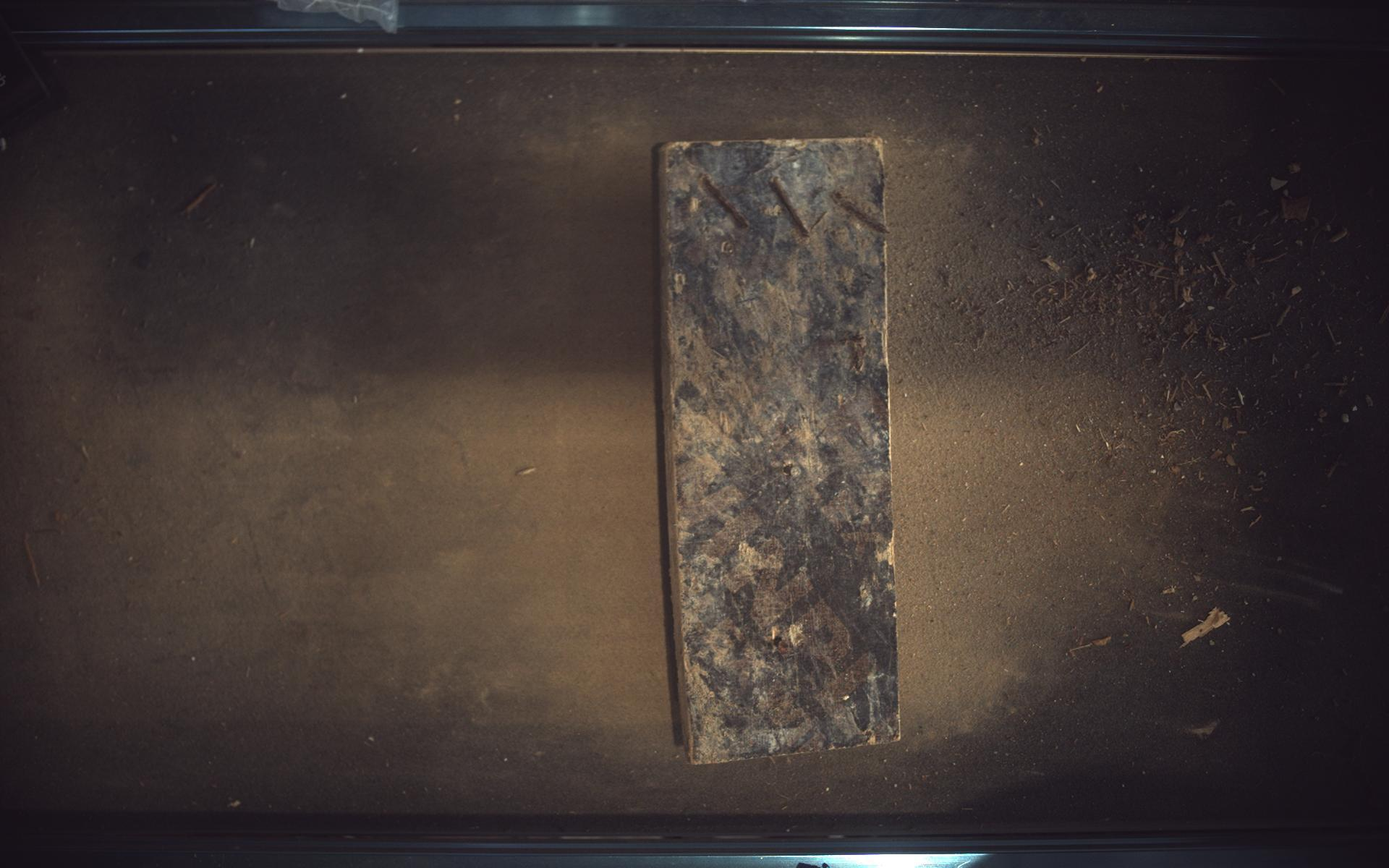wood: (660, 137, 901, 765)
